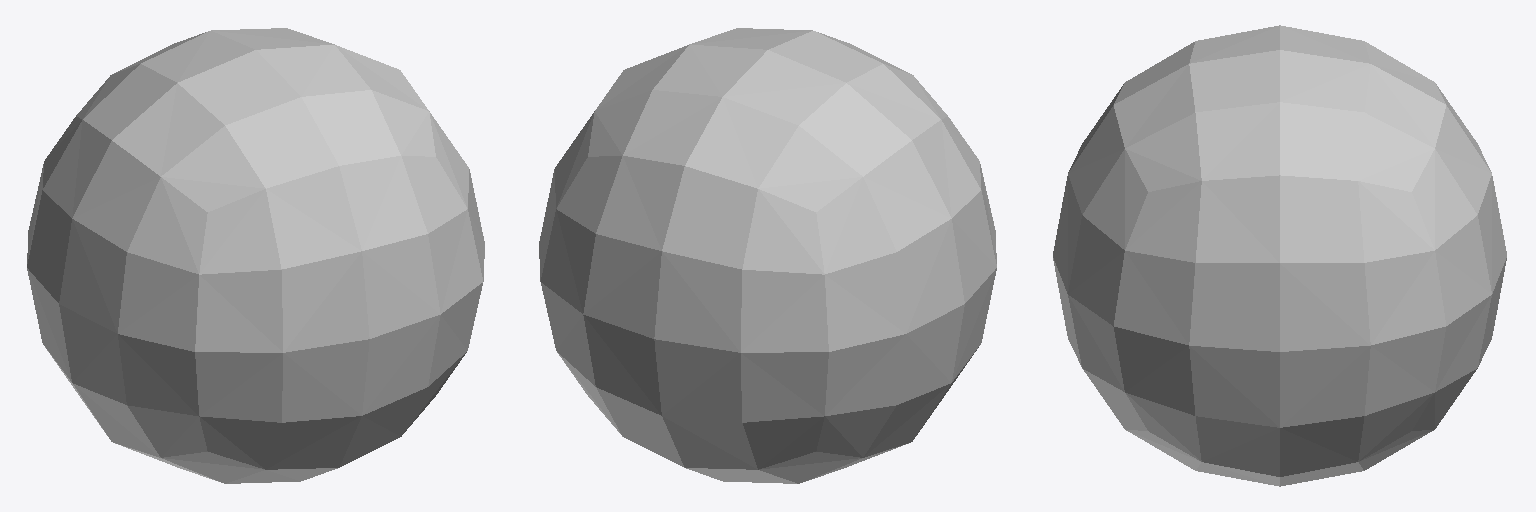
File: ball2.obj
3 views of the same model, side by side, from view 1: azimuth 30°, elevation 25°; view 2: azimuth 150°, elevation 25°; view 3: azimuth 270°, elevation 25° (orthographic).
Parts seen in each view (by area): view 1: pCube1; view 2: pCube1; view 3: pCube1.
Boxes of the visible parts, box(x1,y1,x2,y2) form: pCube1: box(27, 28, 484, 483); pCube1: box(539, 28, 996, 483); pCube1: box(1053, 25, 1506, 486).
Bounding box in the file's own units: 26.78 × 26.78 × 26.78.